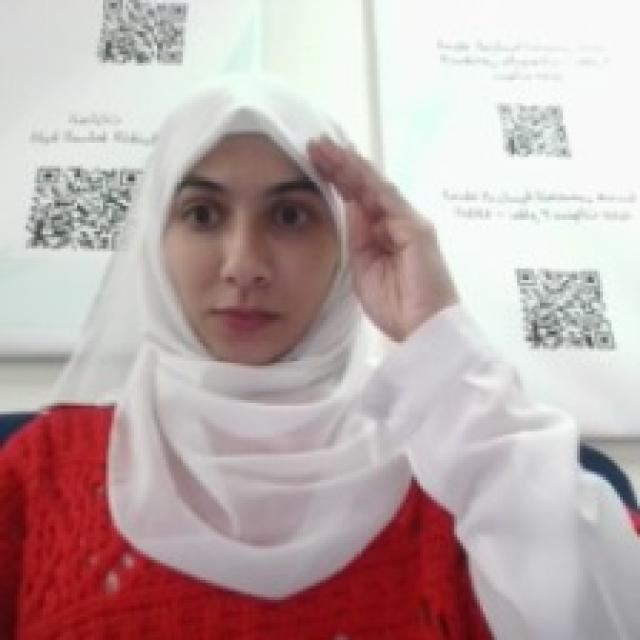Thanks: (297, 126, 449, 326)
